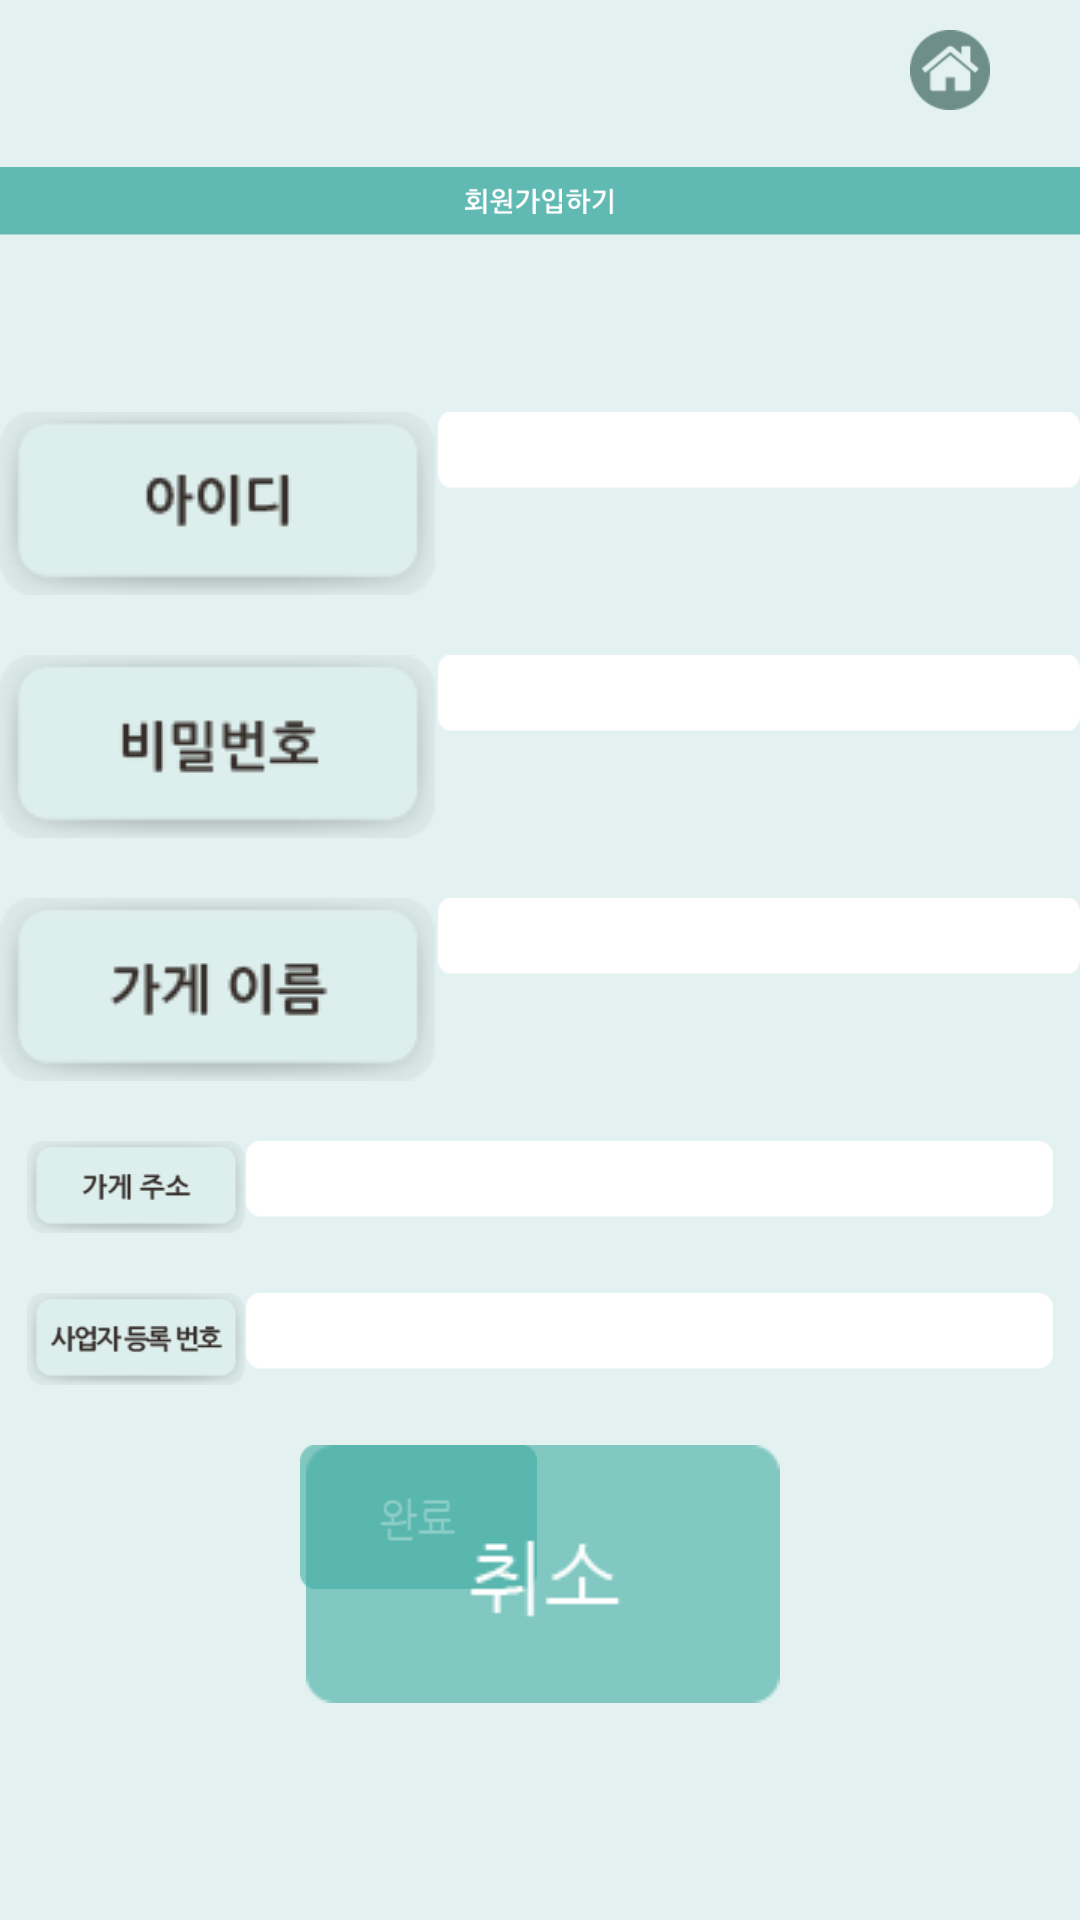

Screen size 1080 x 1920. Icon name, then its box in pixels as (x1, y1, x2, y2):
home: (910, 30, 990, 110)
